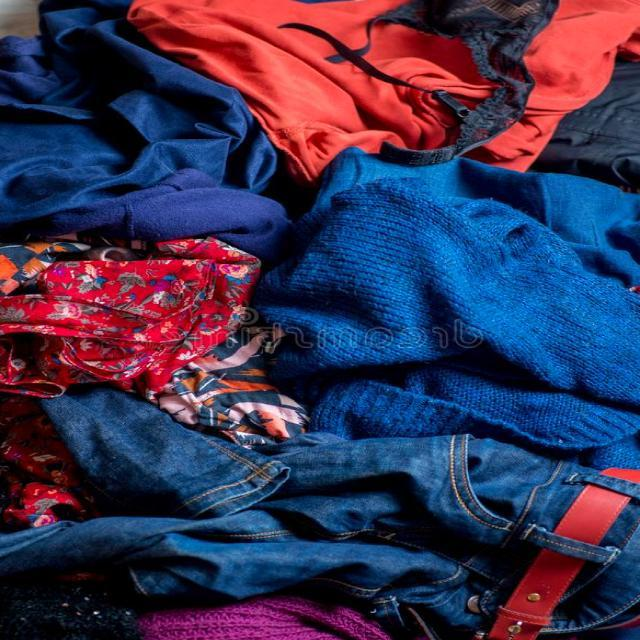clothes: (31, 11, 628, 640)
